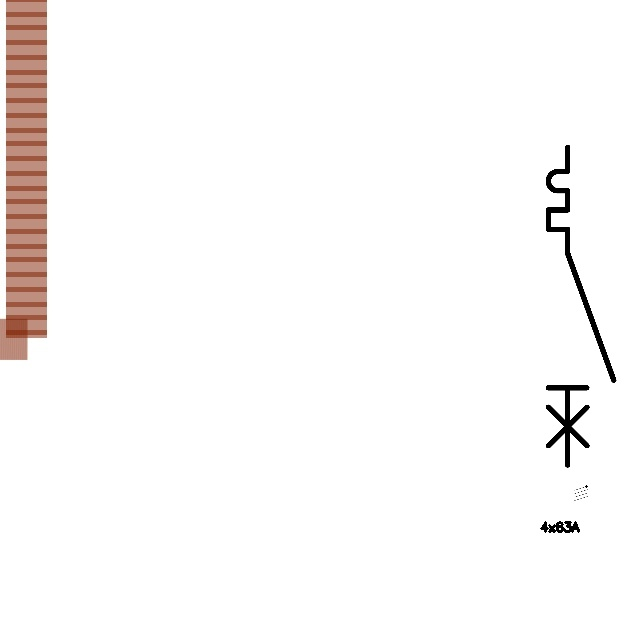interruptor_termomagnetico: (540, 139, 621, 473)
